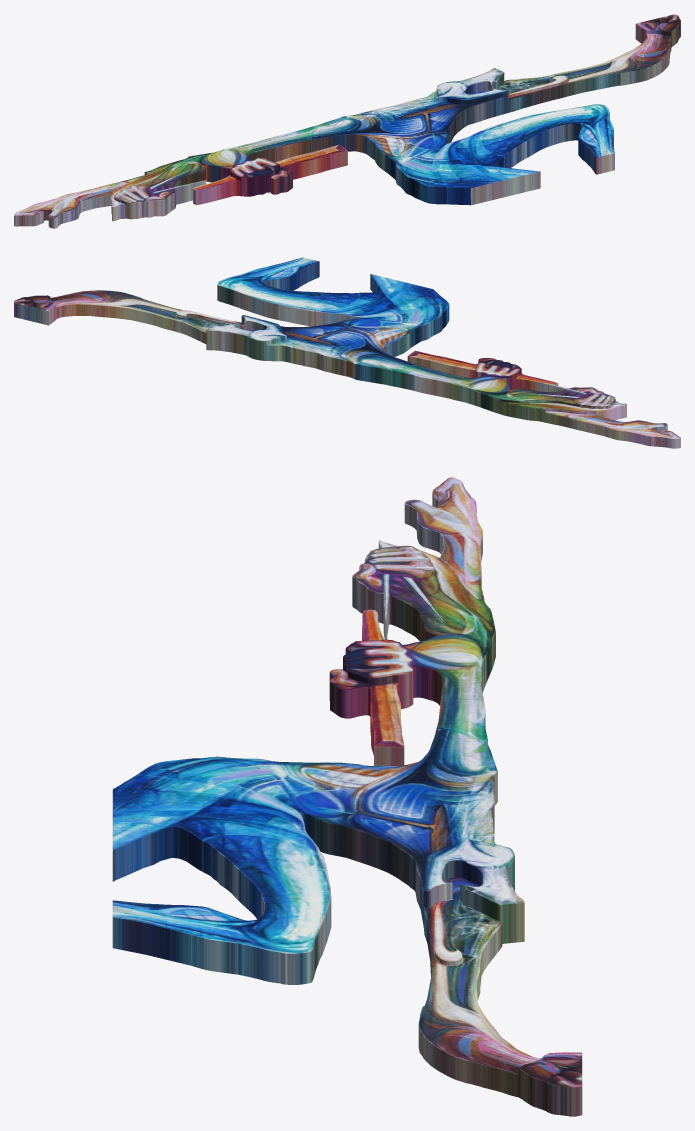
Rendered from el despertar 4.dae.
3 views of the same model, one above another, from view 1: azimuth 30°, elevation 25°; view 2: azimuth 150°, elevation 25°; view 3: azimuth 270°, elevation 25° (orthographic). The views are drawn at different scales.
Visible parts, largest first — view 1: SketchUp (×2); view 2: SketchUp (×2); view 3: SketchUp.
Part boxes in pixels (box(x1,y1,x2,y2)): SketchUp (×2): box(14, 14, 680, 228); SketchUp (×2): box(14, 257, 680, 448); SketchUp: box(112, 477, 582, 1116).
Size of the model in its own units: 147 by 47.08 by 4.31.
Materials: 2 (1 with a texture image).
